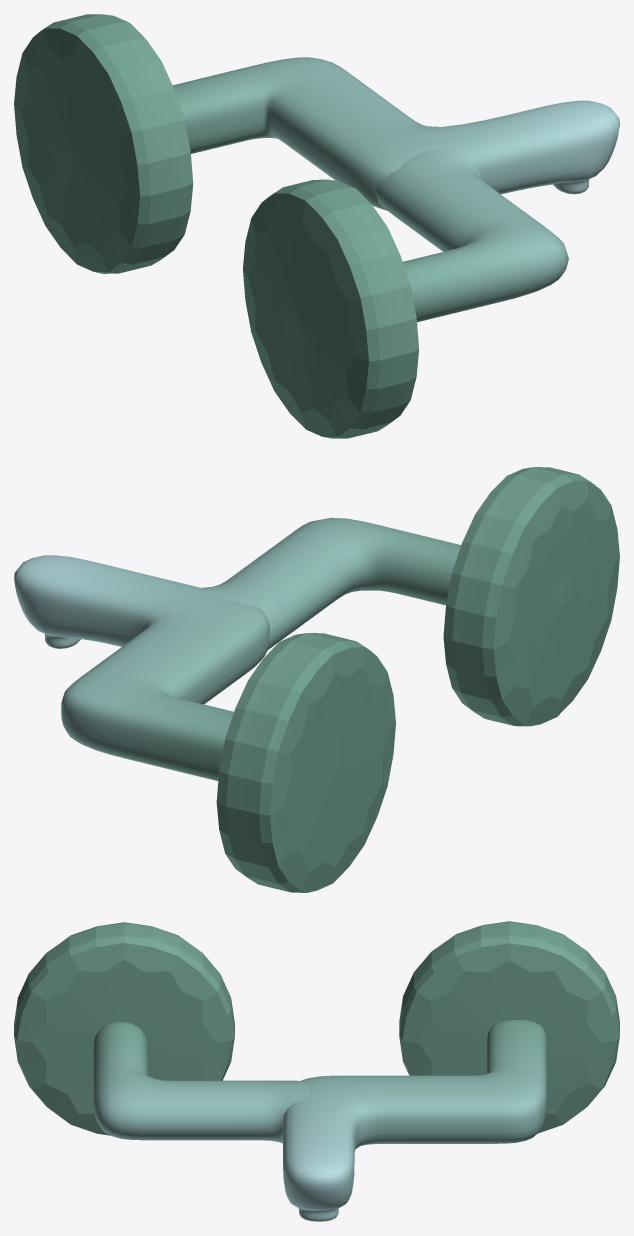
The model's file is waterthinge.fbx.
The picture shows the model from 3 angles, top to bottom: view 1: azimuth 30°, elevation 25°; view 2: azimuth 150°, elevation 25°; view 3: azimuth 270°, elevation 25°; orthographic projection. The views are drawn at different scales.
Parts seen in each view (by area): view 1: Waterthing; view 2: Waterthing; view 3: Waterthing.
Part boxes in pixels (bbox=[...]): Waterthing: bbox=[14, 14, 619, 438]; Waterthing: bbox=[14, 467, 619, 892]; Waterthing: bbox=[14, 921, 619, 1221].
Bounding box in the file's own units: 366 × 191 × 524.
